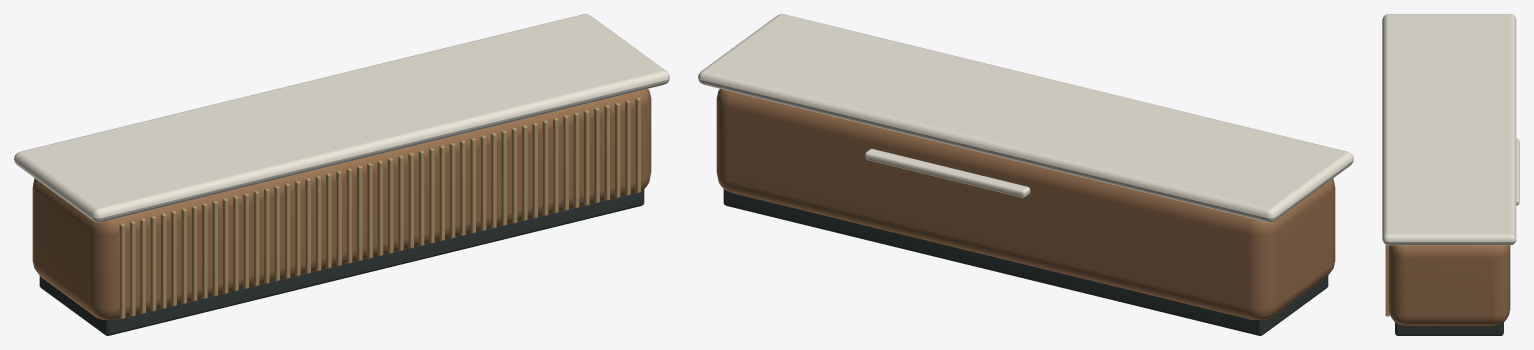
Rendered from conciergeDesk.glb.
The picture shows the model from 3 angles, left to right: view 1: azimuth 30°, elevation 25°; view 2: azimuth 150°, elevation 25°; view 3: azimuth 270°, elevation 25°; orthographic projection. The views are drawn at different scales.
Visible parts, largest first — view 1: Stone counter, Curved oak reception, Shadow plinth, Oak fluting.025, Oak fluting.044, Oak fluting.003, Oak fluting.047, Oak fluting, Oak fluting.019, Oak fluting.041, Oak fluting.032, Oak fluting.038 (+42 smaller); view 2: Curved oak reception, Stone counter, Shadow plinth, Transaction ledge; view 3: Stone counter, Curved oak reception, Shadow plinth, Oak fluting.050, Transaction ledge.
Boxes of the visible parts, x1=… form: Stone counter: x1=14, y1=14, x2=669, y2=222; Curved oak reception: x1=32, y1=89, x2=651, y2=320; Shadow plinth: x1=39, y1=189, x2=644, y2=335; Oak fluting.025: x1=377, y1=160, x2=383, y2=255; Oak fluting.044: x1=573, y1=112, x2=579, y2=208; Oak fluting.003: x1=150, y1=215, x2=156, y2=311; Oak fluting.047: x1=604, y1=105, x2=610, y2=200; Oak fluting: x1=119, y1=223, x2=125, y2=318; Oak fluting.019: x1=315, y1=175, x2=321, y2=271; Oak fluting.041: x1=542, y1=120, x2=548, y2=215; Oak fluting.032: x1=449, y1=142, x2=455, y2=238; Oak fluting.038: x1=511, y1=127, x2=517, y2=223; Curved oak reception: x1=716, y1=89, x2=1335, y2=320; Stone counter: x1=698, y1=14, x2=1353, y2=222; Shadow plinth: x1=723, y1=189, x2=1328, y2=335; Transaction ledge: x1=865, y1=148, x2=1030, y2=197; Stone counter: x1=1382, y1=14, x2=1516, y2=245; Curved oak reception: x1=1388, y1=245, x2=1510, y2=325; Shadow plinth: x1=1395, y1=322, x2=1503, y2=335; Oak fluting.050: x1=1385, y1=245, x2=1389, y2=316; Transaction ledge: x1=1516, y1=138, x2=1519, y2=205.
Size of the model in its own units: 6.1 by 1.37 by 1.57.
